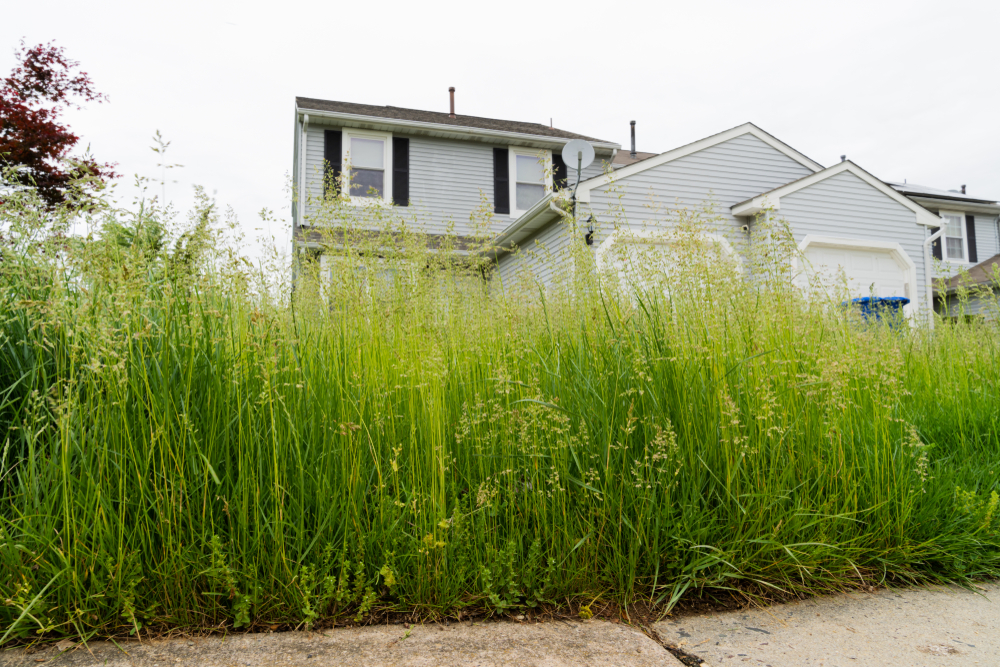grass: (10, 314, 1000, 588)
